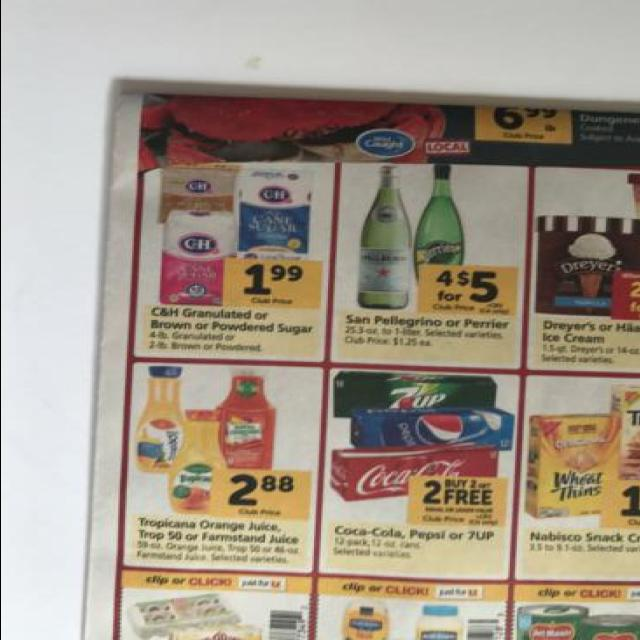kertas: (77, 90, 640, 640)
